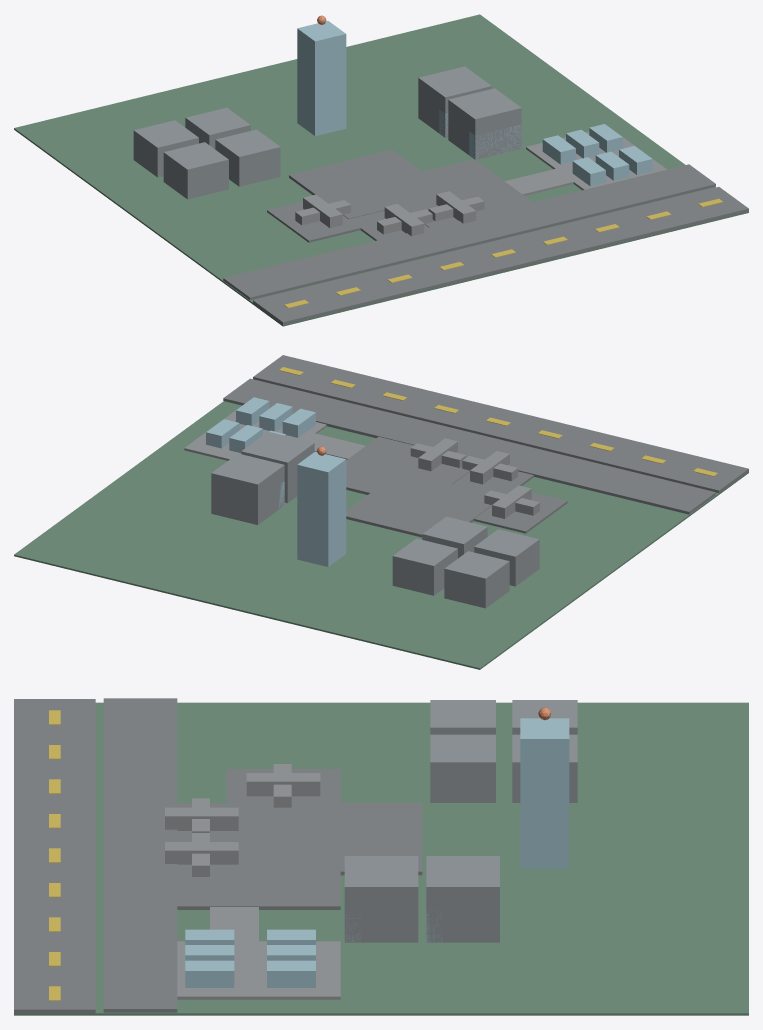
File: stage_16.glb
3 renders of one model, top to bottom at view 1: azimuth 30°, elevation 25°; view 2: azimuth 150°, elevation 25°; view 3: azimuth 270°, elevation 25°, orthographic. The views are drawn at different scales.
Parts seen in each view (by area): view 1: geometry_0; view 2: geometry_0; view 3: geometry_0.
Boxes of the visible parts, bbox=[...] form: geometry_0: bbox=[14, 14, 748, 326]; geometry_0: bbox=[14, 355, 748, 669]; geometry_0: bbox=[14, 698, 748, 1015].
Size of the model in its own units: 9 by 2.06 by 9.
